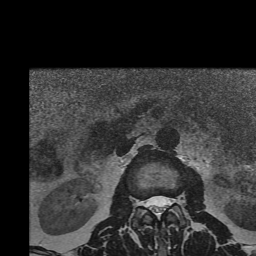CCS_normal: (153, 187, 162, 224)
LFS_stenosis: (170, 185, 178, 212)
LLS_normal: (162, 187, 170, 217)
RFS_stenosis: (137, 188, 145, 214)
RLS_normal: (145, 188, 153, 217)
